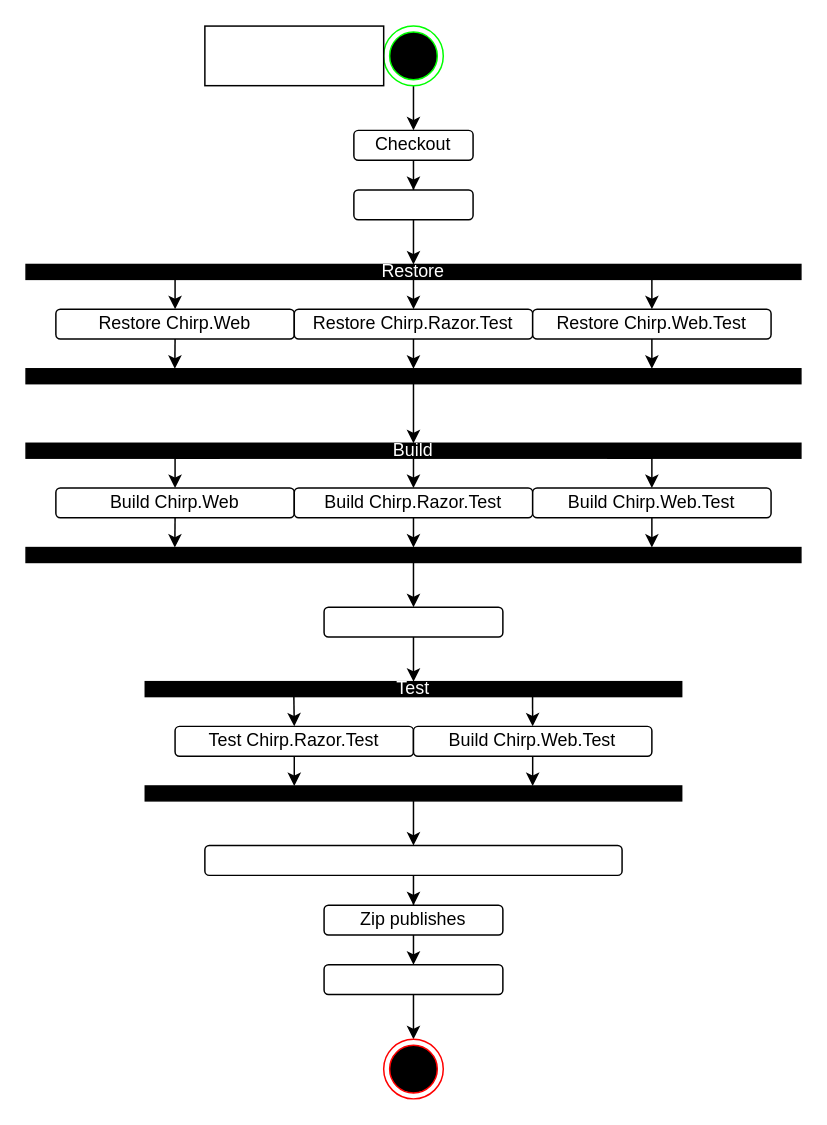
Some shapes in this 827 by 1125 pixel diagram are drawn without their labels. The shapes that lost their labels are listed below. From the top down, each one's centre as x and y in pixels, then its label:
At [293,55]: "Build and Test".
At [412,204]: "Setup .Net".
At [413,621]: "Install Playwright".
At [412,859]: "Publish Chirp.Web to Linux, Windows, and Mac".
At [413,979]: "Release with Zip files".
